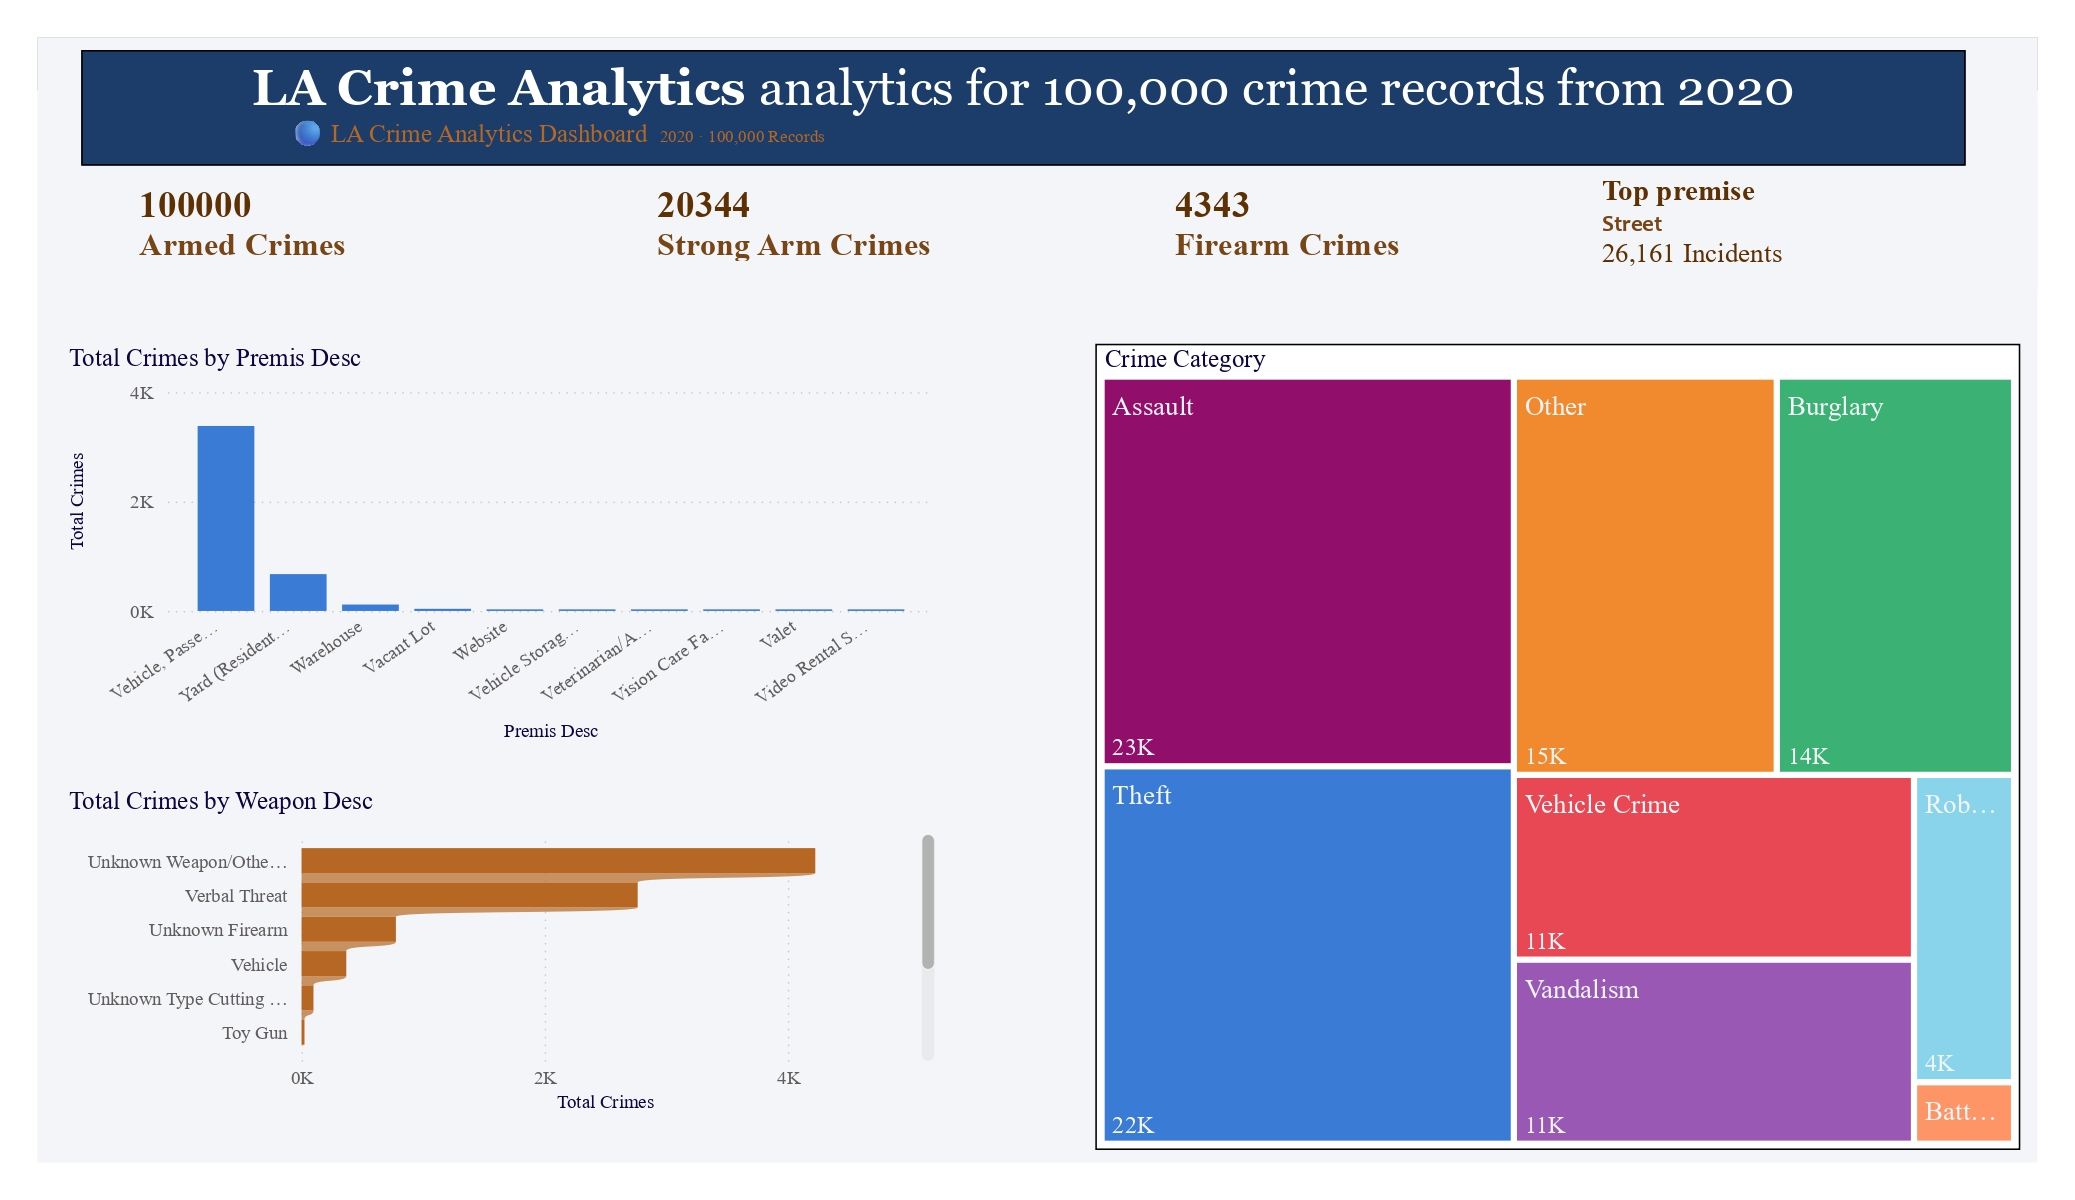

This screenshot's page, from the dashboard's own definition file:
{"tool":"powerbi","page":{"name":"Weapon -Crime","canvas":[1280,720],"ordinal":3},"visuals":[{"type":"multiRowCard","fields":{"Values":["WEAPON_MEASURES.Armed Crimes","WEAPON_MEASURES.Strong Arm Crimes","WEAPON_MEASURES.Firearm Crimes"]},"box":[60.3,88.5,1004.7,85.6],"z":0},{"type":"textbox","box":[878.9,36.8,123.9,36.8],"z":1000},{"type":"textbox","box":[996,81.7,138.1,75.9],"z":2000},{"type":"barChart","fields":{"Y":["CORE_KPI_MEASURES.Total Crimes","select"],"Category":["Crime Data.Weapon Desc"]},"box":[14.6,479.5,564.1,214],"z":3000},{"type":"treemap","title":"Crime Category","fields":{"Group":["Crime Data.Crime Category"],"Values":["CORE_KPI_MEASURES.Total Crimes"]},"box":[677,196.5,592.3,515.5],"z":4000},{"type":"columnChart","fields":{"Category":["Crime Data.Premis Desc"],"Y":["CORE_KPI_MEASURES.Total Crimes"]},"box":[14.6,196.5,564.1,259.7],"z":5000},{"type":"textbox","box":[28.2,7.8,1206.1,73.9],"z":6000}]}

Visuals, with their boxes on the page's 1280x720 design canvas (x1, y1, x2, y2). These are canvas units, not pixel positions in the 2075x1200 screenshot, which may show the page scaled, cropped or inside an application window:
multiRowCard - WEAPON_MEASURES.Armed Crimes x WEAPON_MEASURES.Strong Arm Crimes: {"left": 60, "top": 88, "right": 1065, "bottom": 174}
textbox: {"left": 879, "top": 37, "right": 1003, "bottom": 74}
textbox: {"left": 996, "top": 82, "right": 1134, "bottom": 158}
barChart - CORE_KPI_MEASURES.Total Crimes x select: {"left": 15, "top": 480, "right": 579, "bottom": 694}
"Crime Category" treemap: {"left": 677, "top": 196, "right": 1269, "bottom": 712}
columnChart - Crime Data.Premis Desc x CORE_KPI_MEASURES.Total Crimes: {"left": 15, "top": 196, "right": 579, "bottom": 456}
textbox: {"left": 28, "top": 8, "right": 1234, "bottom": 82}
